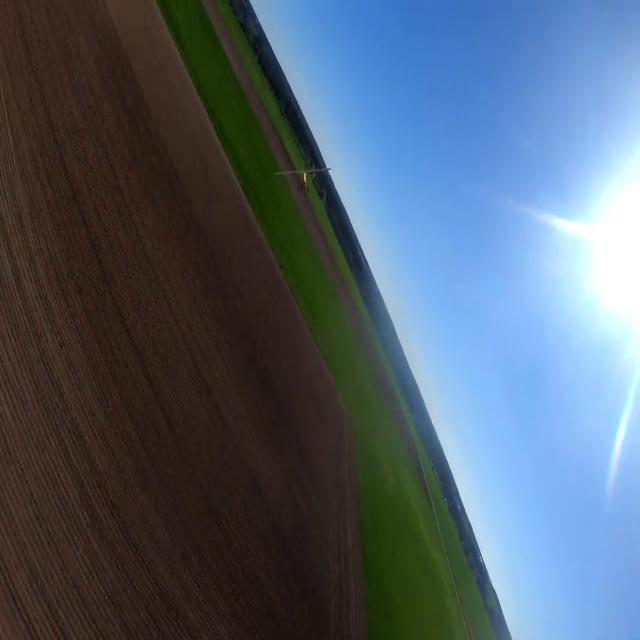iha: (274, 168, 332, 193)
